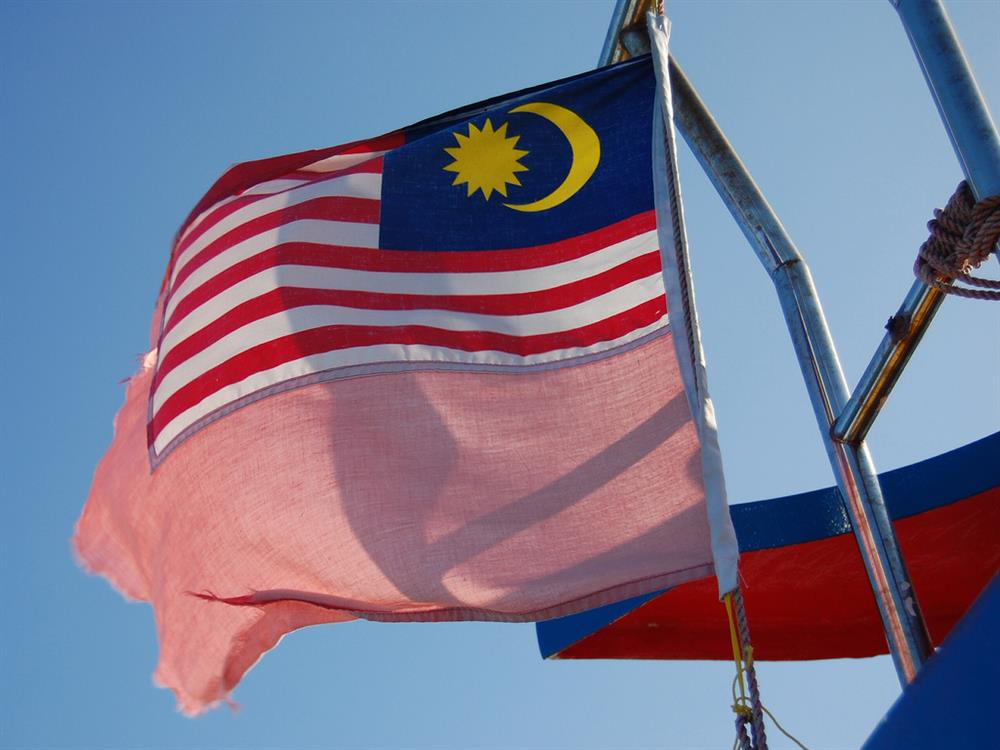Malaysia_flag: (155, 52, 658, 481)
